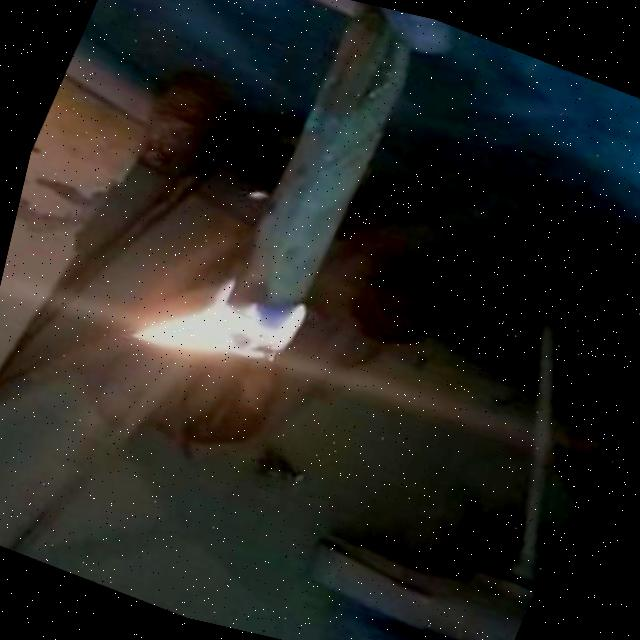fire: (118, 264, 314, 389)
